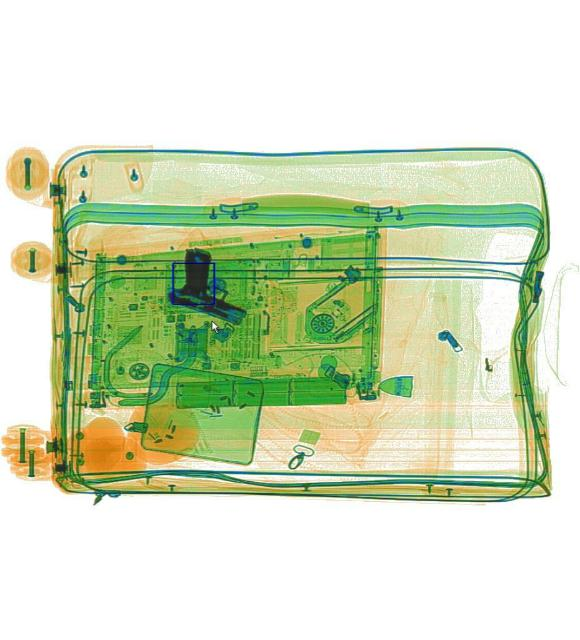Gun: (164, 243, 260, 329)
